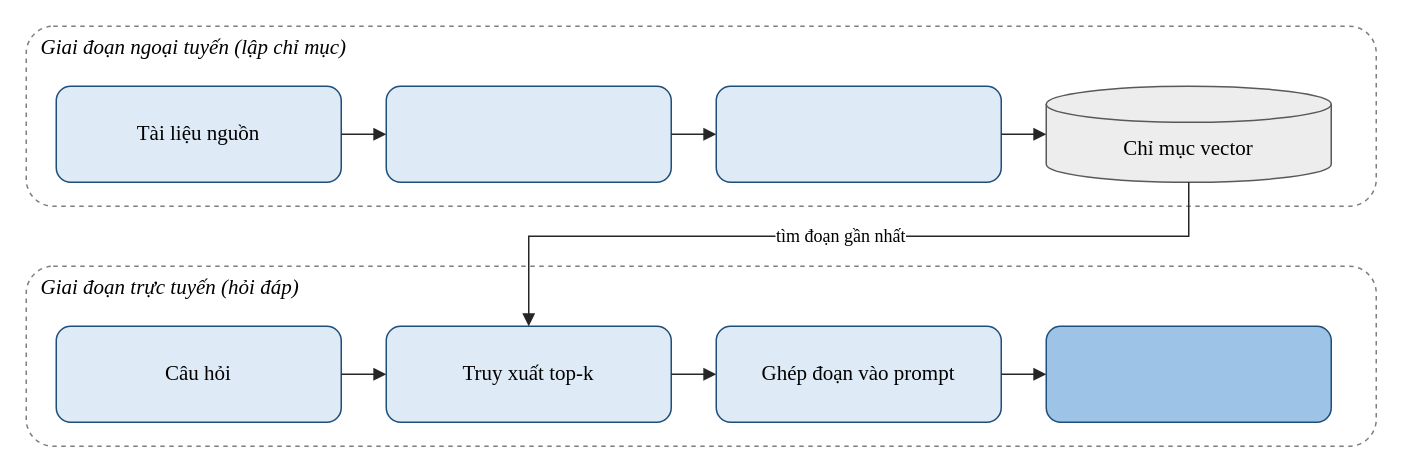
This 1403x473 diagram has some shape labels left out. Each missing label, with the centre of its shape:
LLM sinh câu trả lời: pixel 1188 373
Làm sạch và chia đoạn: pixel 528 133
Mã hóa (embedding): pixel 858 133
